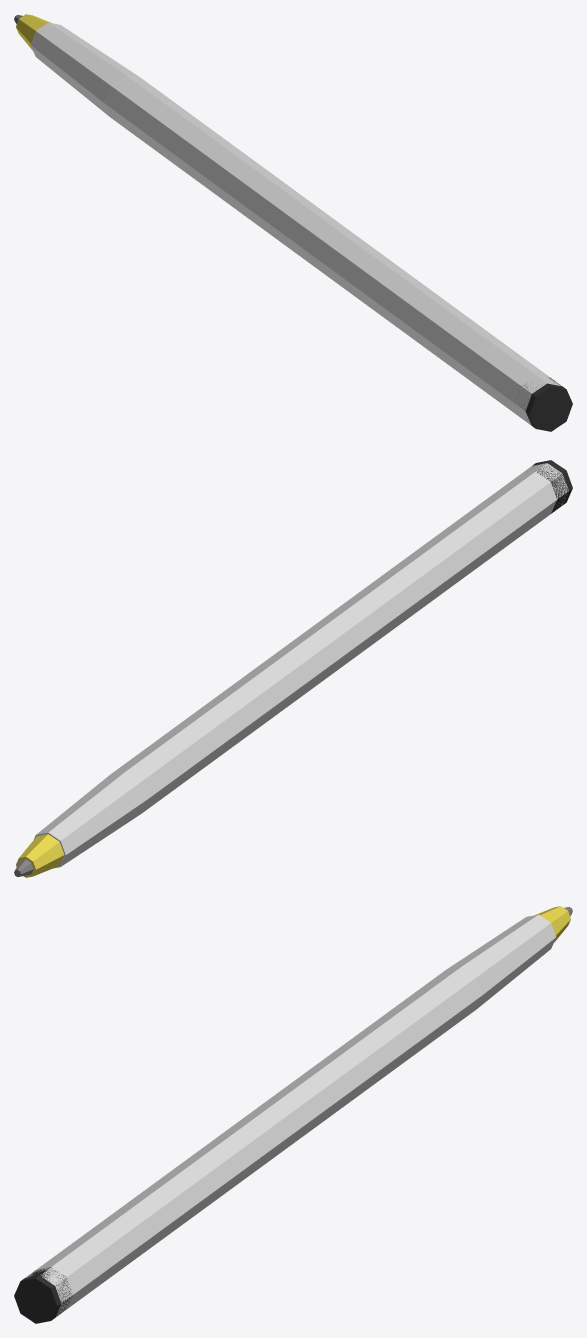
Rendered from Stylo.fbx.
3 renders of one model, top to bottom at view 1: azimuth 30°, elevation 25°; view 2: azimuth 150°, elevation 25°; view 3: azimuth 330°, elevation 25°, orthographic.
Parts seen in each view (by area): view 1: Stylo; view 2: Stylo; view 3: Stylo.
Part boxes in pixels (left/top/right/bottom): Stylo: left=14, top=14, right=572, bottom=431; Stylo: left=14, top=460, right=572, bottom=877; Stylo: left=14, top=906, right=572, bottom=1323.
Size of the model in its own units: 0.6891 by 0.6891 by 14.68.
